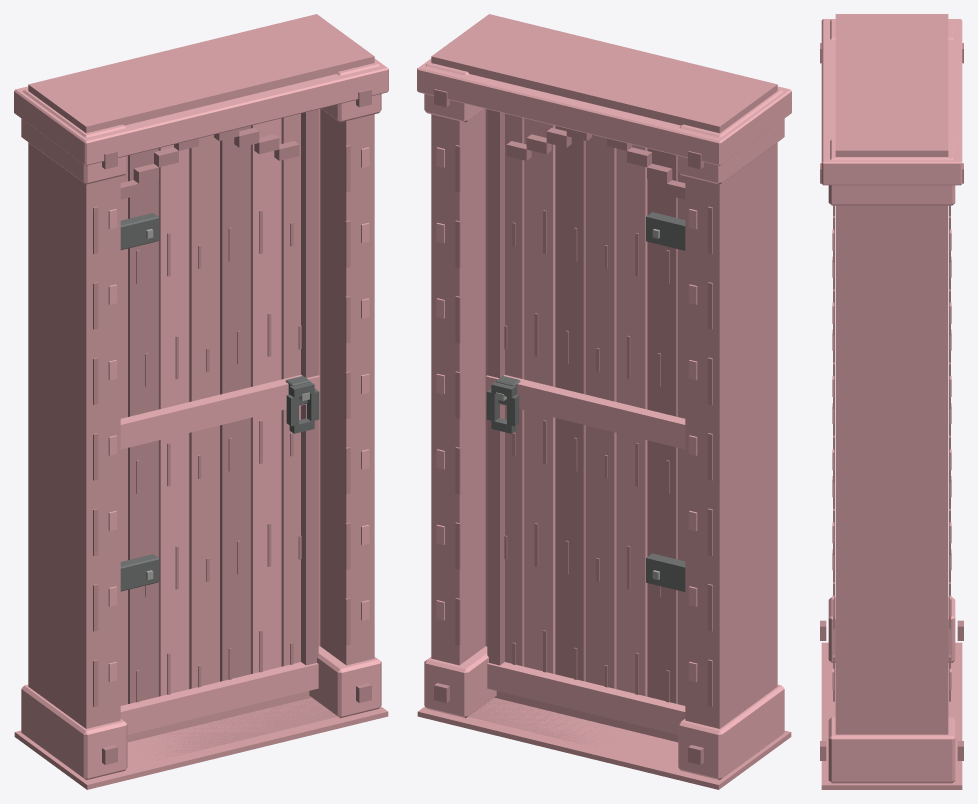
File: cherry_door.gltf
The picture shows the model from 3 angles, left to right: view 1: azimuth 30°, elevation 25°; view 2: azimuth 150°, elevation 25°; view 3: azimuth 270°, elevation 25°; orthographic projection. The views are drawn at different scales.
Size of the model in its own units: 0.97 by 2 by 0.41.
